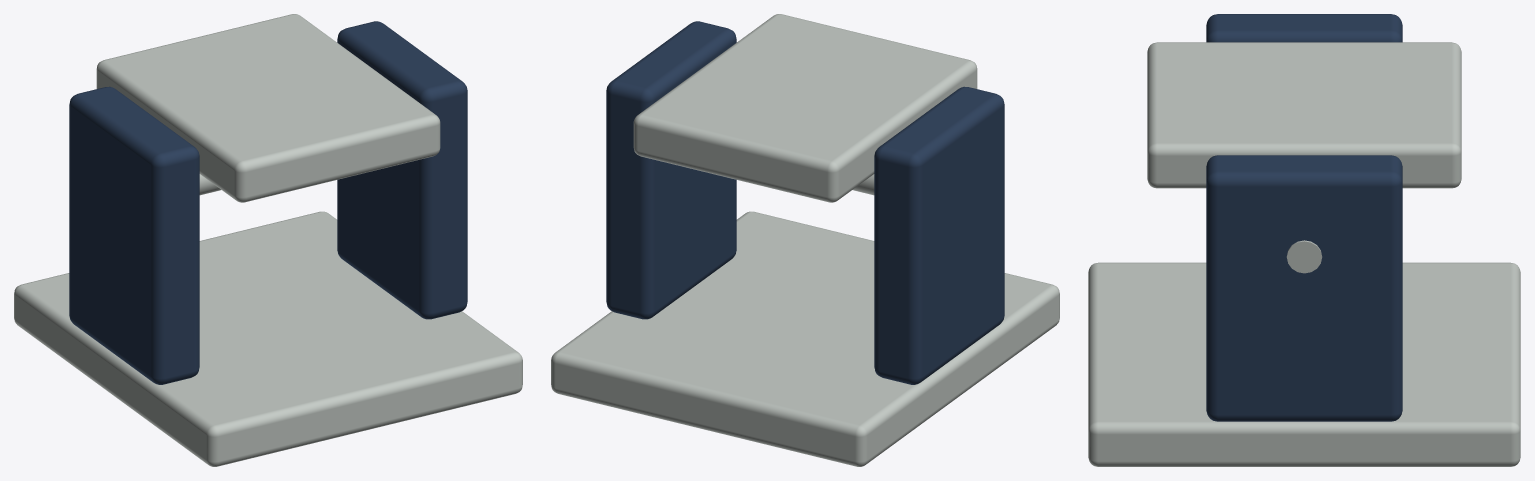
The model's file is planetarium-and-optical-observatory-guide-camera-brack-47f91981__31857.glb.
3 views of the same model, side by side, from view 1: azimuth 30°, elevation 25°; view 2: azimuth 150°, elevation 25°; view 3: azimuth 270°, elevation 25° (orthographic). The views are drawn at different scales.
Visible parts, largest first — view 1: guide-camera-bracket; view 2: guide-camera-bracket; view 3: guide-camera-bracket.
Boxes of the visible parts, <box> form: guide-camera-bracket: <box>14,14,522,466</box>; guide-camera-bracket: <box>551,14,1059,466</box>; guide-camera-bracket: <box>1088,14,1520,466</box>.
Bounding box in the file's own units: 0.2012 × 0.165 × 0.22.
